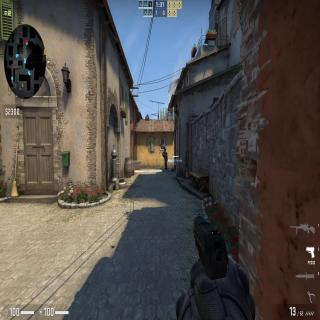T-Body: (164, 150, 168, 170), (161, 143, 166, 157)
T-Head: (164, 150, 166, 154), (162, 144, 164, 146)
